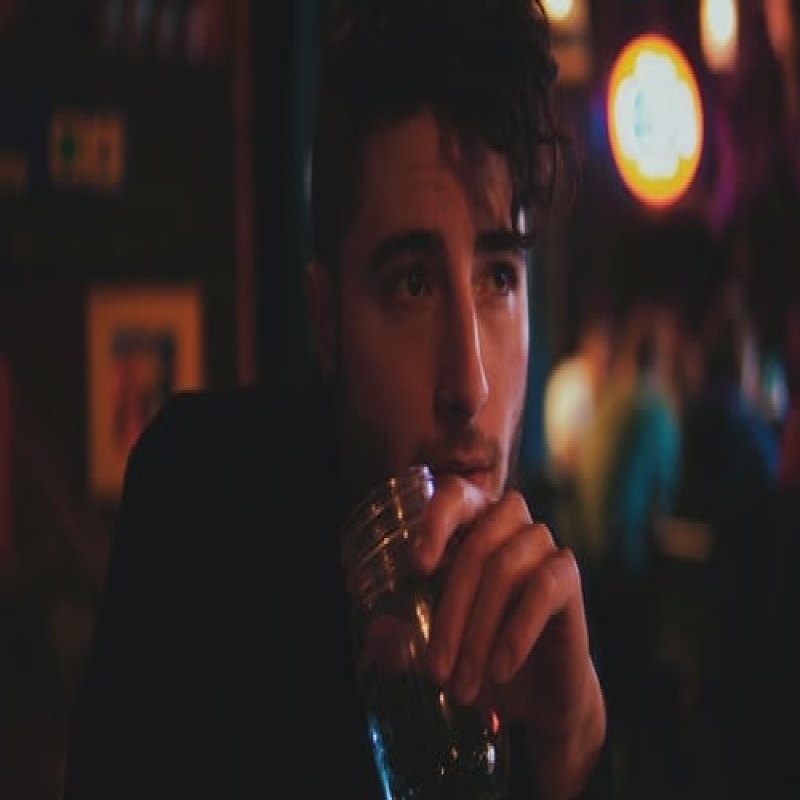whiskey: (328, 471, 522, 778)
